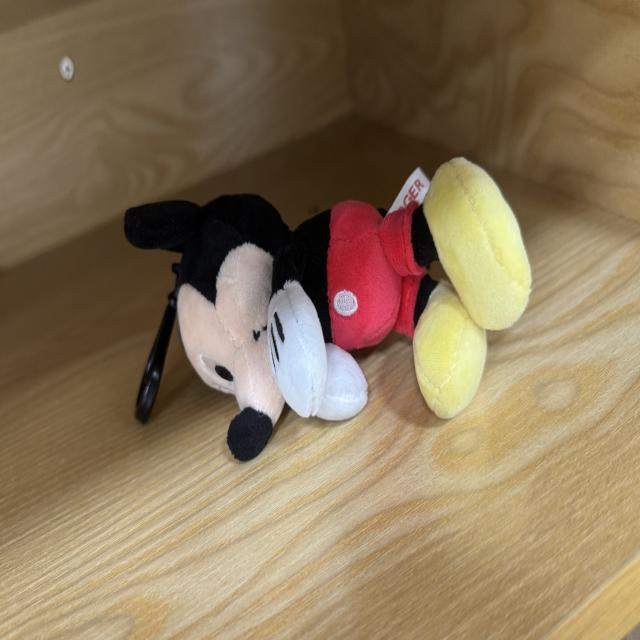mickey: (126, 159, 530, 460)
